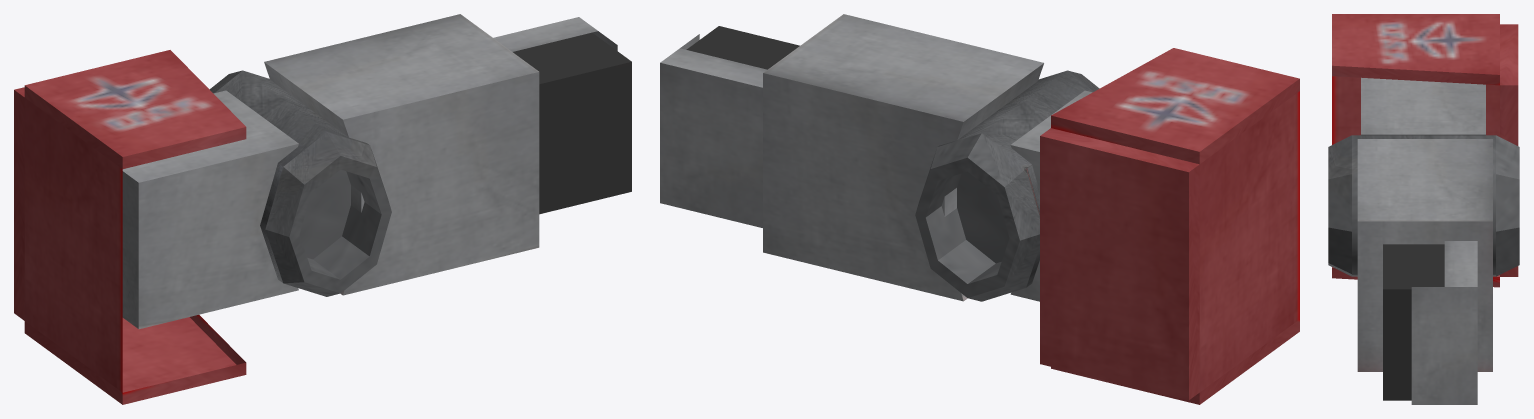
Rendered from Arm-Left.FBX.
3 views of the same model, side by side, from view 1: azimuth 30°, elevation 25°; view 2: azimuth 150°, elevation 25°; view 3: azimuth 270°, elevation 25° (orthographic). The views are drawn at different scales.
Visible parts, largest first — view 1: Object006; view 2: Object006; view 3: Object006.
Part boxes in pixels (box(x1,y1,x2,y2)): Object006: box(14, 14, 631, 404); Object006: box(660, 14, 1299, 404); Object006: box(1328, 14, 1519, 404).
Bounding box in the file's own units: 6.68 × 2.92 × 2.39.
